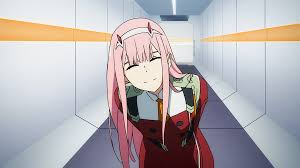zeroTwo: (105, 17, 181, 93)
